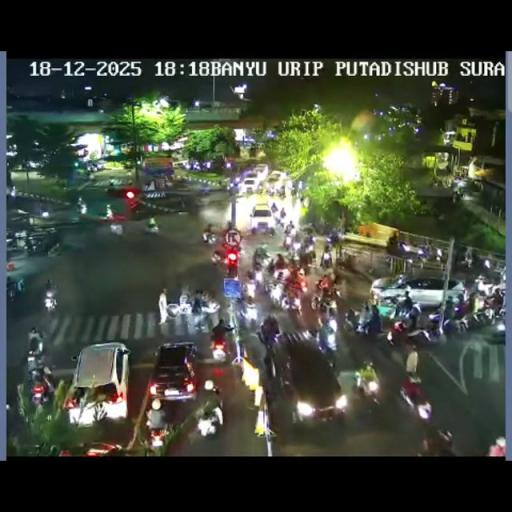Car: (273, 336, 346, 425), (65, 342, 130, 426), (147, 342, 198, 404), (372, 276, 464, 310), (62, 439, 124, 455), (249, 200, 273, 232), (108, 183, 138, 200), (241, 176, 261, 194), (266, 170, 286, 186), (252, 164, 268, 178)
Motorcycle: (275, 222, 338, 275), (440, 302, 504, 340), (399, 377, 434, 423), (348, 308, 386, 342), (27, 365, 53, 408), (354, 370, 382, 408), (420, 426, 454, 456), (233, 290, 261, 325), (196, 401, 222, 438), (310, 286, 339, 316), (146, 413, 168, 449), (261, 339, 280, 379), (316, 321, 338, 355), (386, 319, 412, 347), (209, 328, 229, 361), (191, 301, 212, 332), (280, 284, 302, 313), (261, 314, 279, 342), (484, 290, 505, 313), (416, 306, 434, 332), (420, 242, 442, 263), (27, 326, 43, 354), (44, 278, 58, 308), (223, 222, 242, 244), (176, 293, 194, 315), (252, 245, 269, 268), (8, 232, 28, 250), (202, 378, 220, 397), (224, 254, 238, 278), (294, 269, 308, 292), (326, 230, 342, 248), (475, 276, 491, 294), (320, 248, 333, 270), (328, 273, 341, 295), (461, 247, 474, 268), (211, 249, 227, 266), (24, 241, 42, 256), (302, 244, 315, 264), (245, 265, 258, 285), (6, 278, 18, 299), (201, 229, 217, 244), (144, 219, 160, 234), (265, 257, 277, 276), (48, 241, 62, 257), (393, 271, 407, 287), (282, 234, 295, 250), (451, 187, 462, 203), (110, 222, 123, 235), (199, 182, 211, 196), (226, 184, 238, 198), (398, 239, 410, 253), (275, 214, 286, 229), (292, 185, 303, 200), (284, 222, 294, 235), (276, 184, 285, 198), (17, 278, 25, 291), (78, 204, 87, 214), (85, 170, 94, 180), (267, 186, 275, 196), (270, 202, 278, 212), (268, 225, 275, 236), (109, 178, 114, 186)
